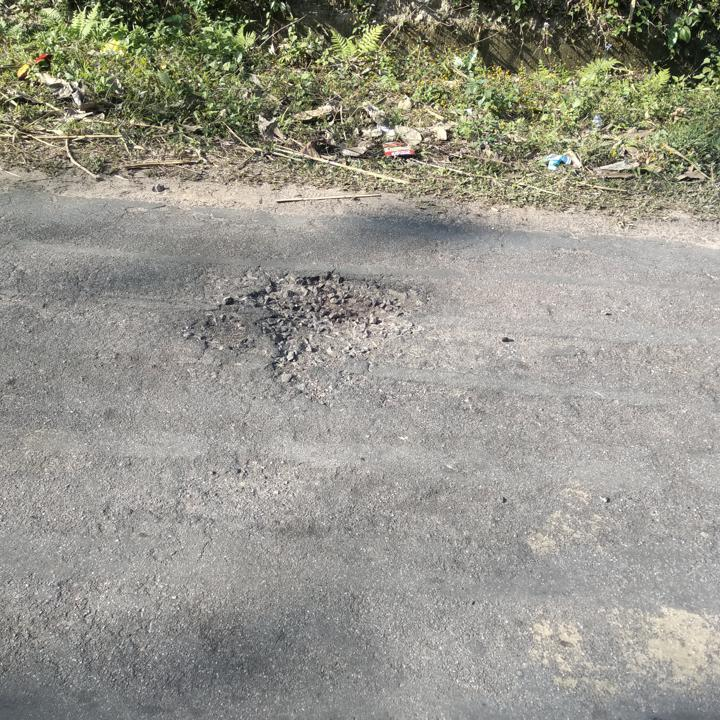pothole: (235, 272, 434, 388)
